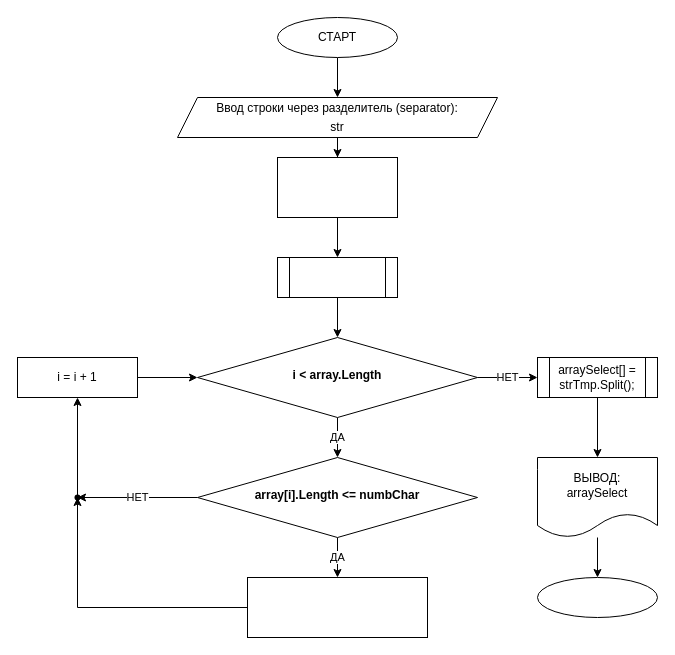
The diagram is 675 pixels wide and 655 high, and some of its shapes have lost their labels. Each missing label, with the centre of its shape:
array[] = str.Split();: point (337, 277)
numbChar = 3; i = 0; strTmp = Empty;: point (337, 187)
strTmp = strTmp + array[i]: point (337, 607)
КОНЕЦ: point (597, 597)
